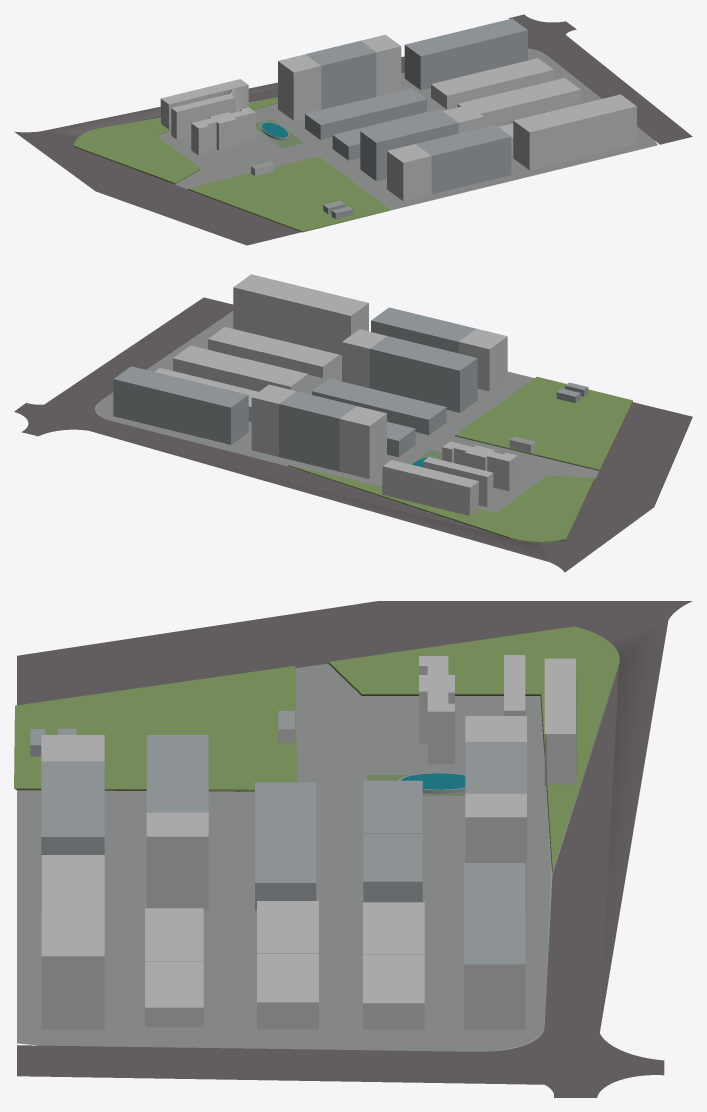
3 views of the same model, one above another, from view 1: azimuth 30°, elevation 25°; view 2: azimuth 150°, elevation 25°; view 3: azimuth 270°, elevation 25° (orthographic). The views are drawn at different scales.
Visible parts, largest first — view 1: Model; view 2: Model; view 3: Model.
Part boxes in pixels (<box>): Model: <box>14,14,692,245</box>; Model: <box>14,274,692,572</box>; Model: <box>14,601,692,1097</box>.
Size of the model in its own units: 961 by 86.85 by 555.
